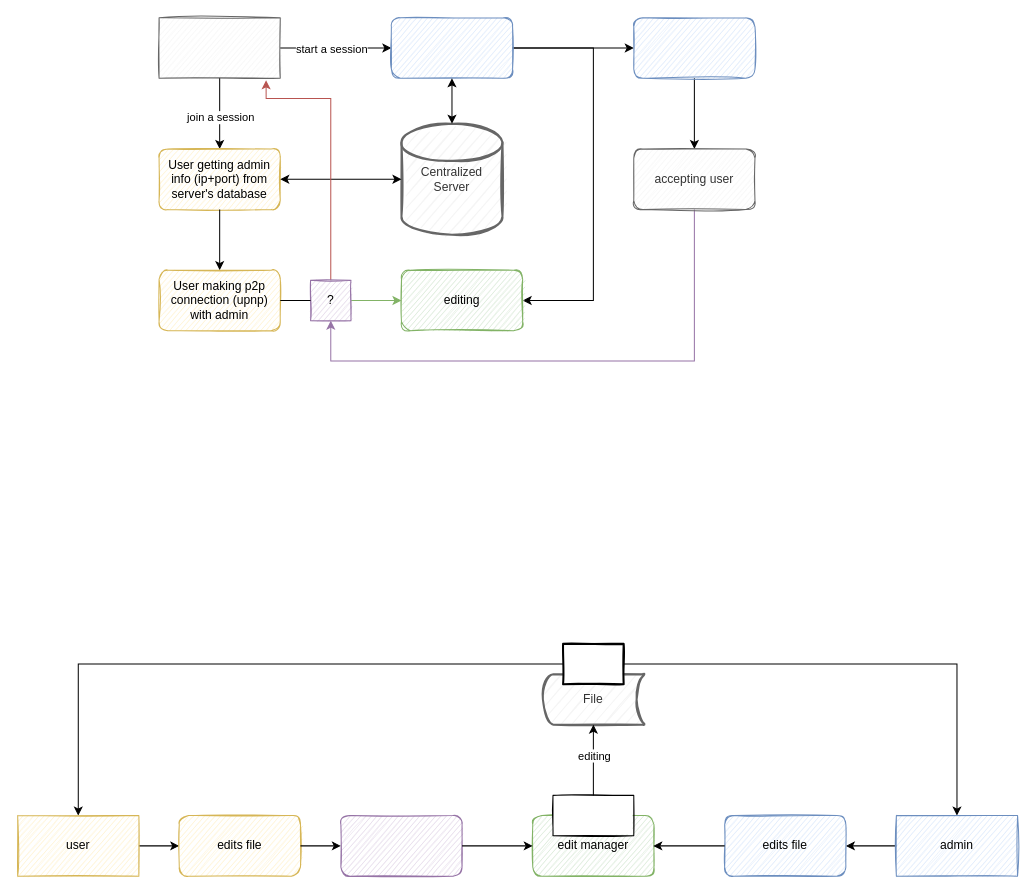
Some shapes in this 1035 by 894 pixel diagram are drawn without their labels. Here are the shapes that lost their labels. From the top down, the box of each, then its label:
(158, 17, 280, 78): main menu
(390, 17, 513, 78): User adding info (ip+port) into server's database
(633, 17, 755, 78): waiting for connection
(562, 642, 624, 685): updater
(552, 794, 634, 836): API
(340, 815, 462, 876): sends edits to admin
